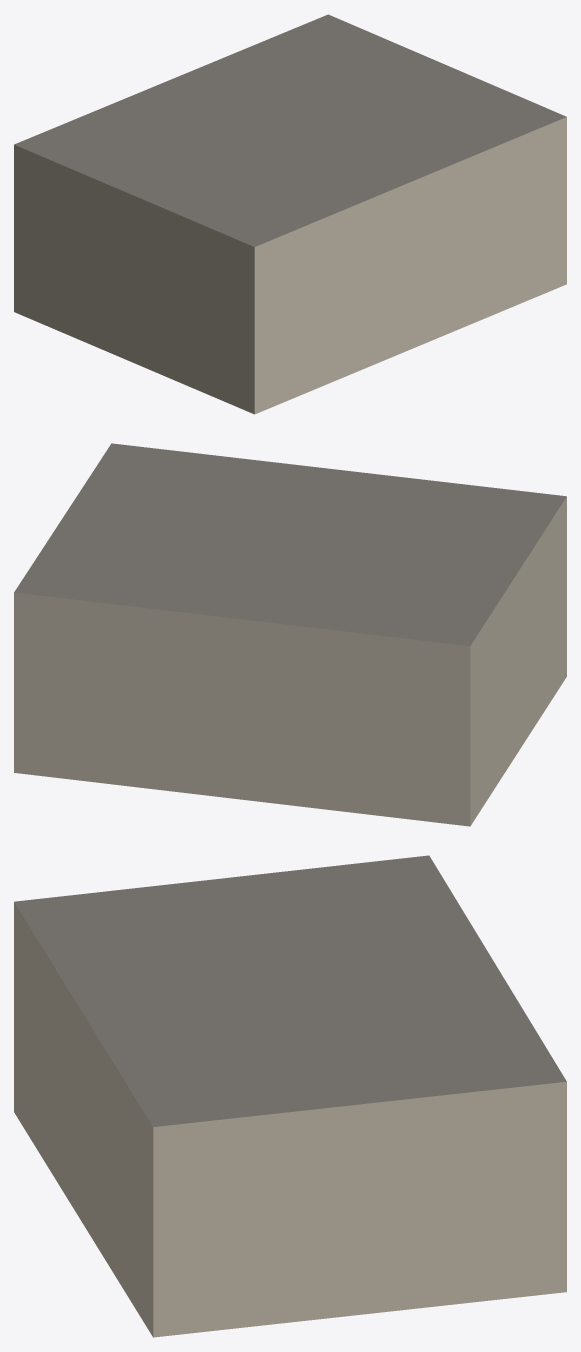
3 renders of one model, top to bottom at view 1: azimuth 30°, elevation 25°; view 2: azimuth 150°, elevation 25°; view 3: azimuth 270°, elevation 25°, orthographic. The views are drawn at different scales.
Parts seen in each view (by area): view 1: HP-w378107192; view 2: HP-w378107192; view 3: HP-w378107192.
Boxes of the visible parts, bbox=[...] form: HP-w378107192: bbox=[14, 14, 566, 414]; HP-w378107192: bbox=[14, 443, 566, 826]; HP-w378107192: bbox=[14, 855, 566, 1337].
Bounding box in the file's own units: 33.24 × 12 × 28.58.
